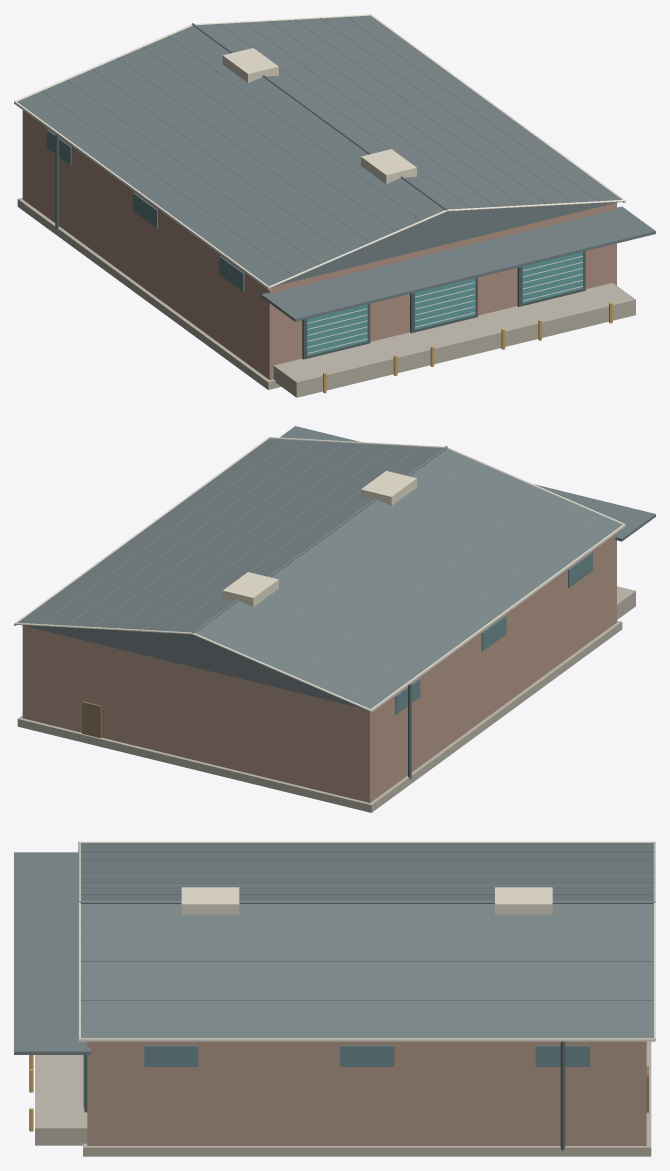
3 views of the same model, one above another, from view 1: azimuth 30°, elevation 25°; view 2: azimuth 150°, elevation 25°; view 3: azimuth 270°, elevation 25° (orthographic). The views are drawn at different scales.
Size of the model in its own units: 27 by 10.28 by 36.73.
